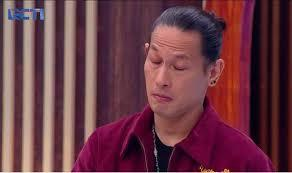Drowsy: (140, 6, 228, 128)
